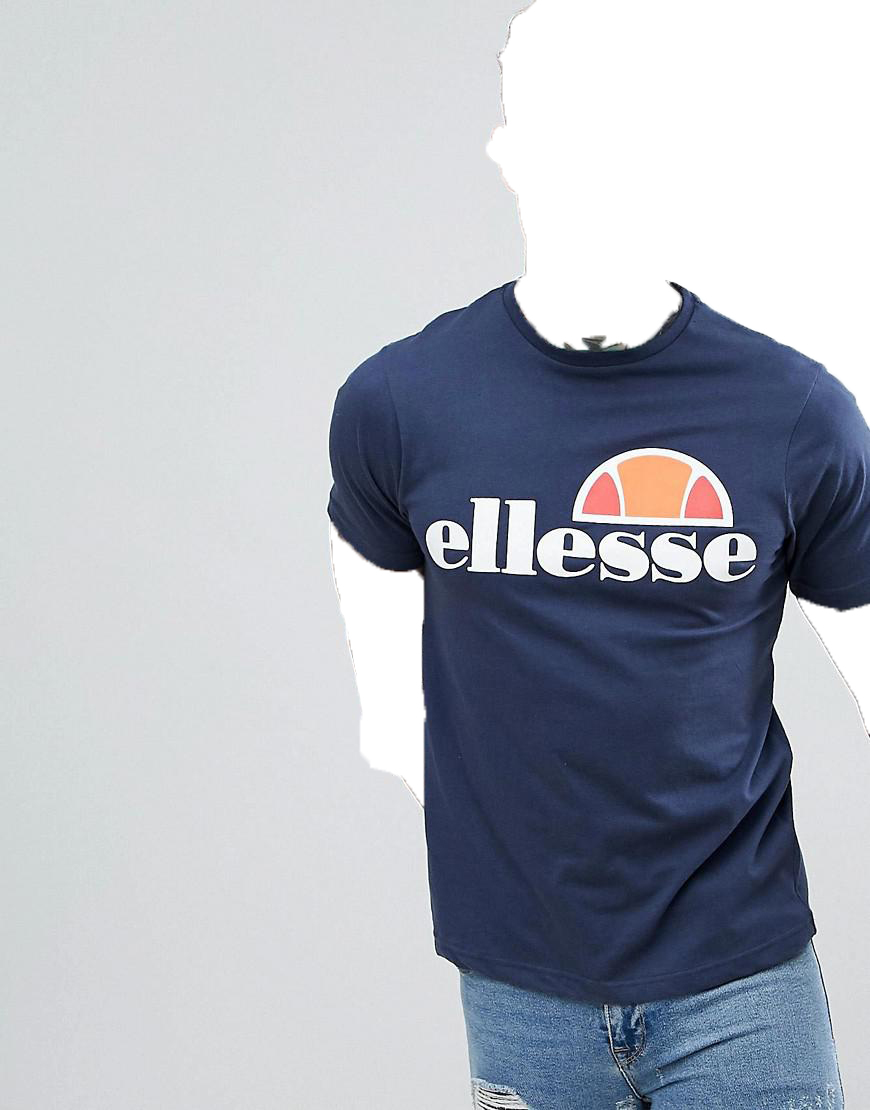teeshirt: (315, 276, 870, 1027)
